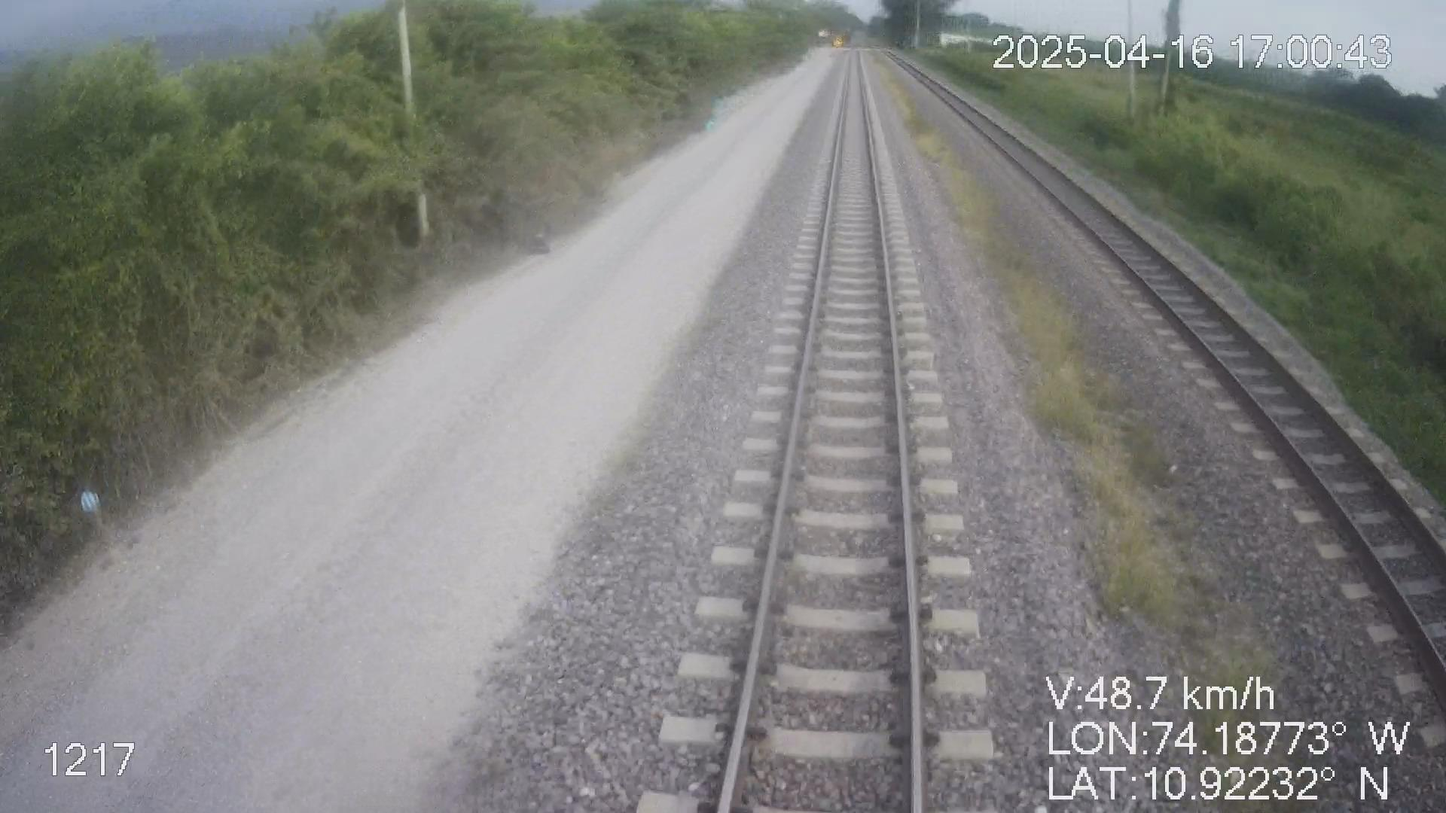Pasto: (0, 0, 860, 657), (926, 33, 1445, 519)
